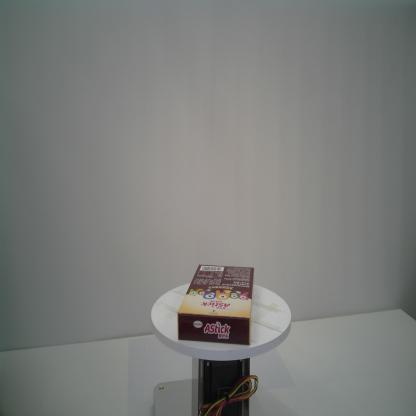Dessert: (176, 264, 256, 349)
